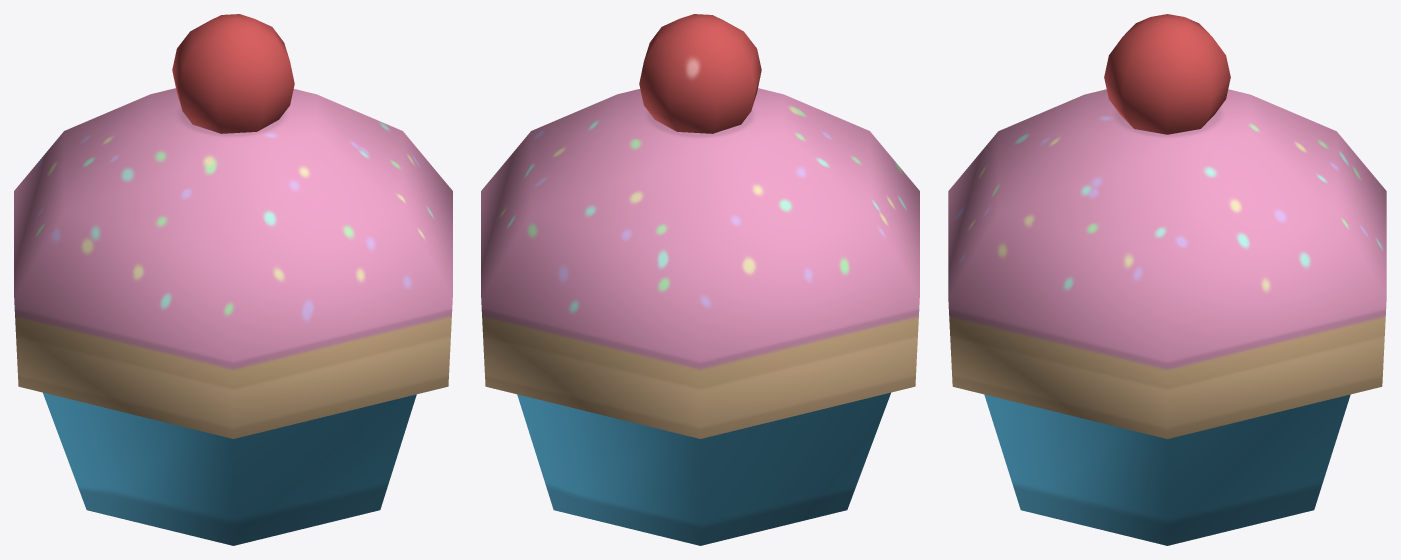
The model's file is Cupcake.fbx.
3 views of the same model, side by side, from view 1: azimuth 30°, elevation 25°; view 2: azimuth 150°, elevation 25°; view 3: azimuth 270°, elevation 25° (orthographic).
Visible parts, largest first — view 1: pSphere2; view 2: pSphere2; view 3: pSphere2.
Part boxes in pixels (<box>): pSphere2: <box>14,14,452,545</box>; pSphere2: <box>481,14,919,545</box>; pSphere2: <box>948,14,1386,545</box>.
Size of the model in its own units: 7.99 by 7.91 by 6.92.
